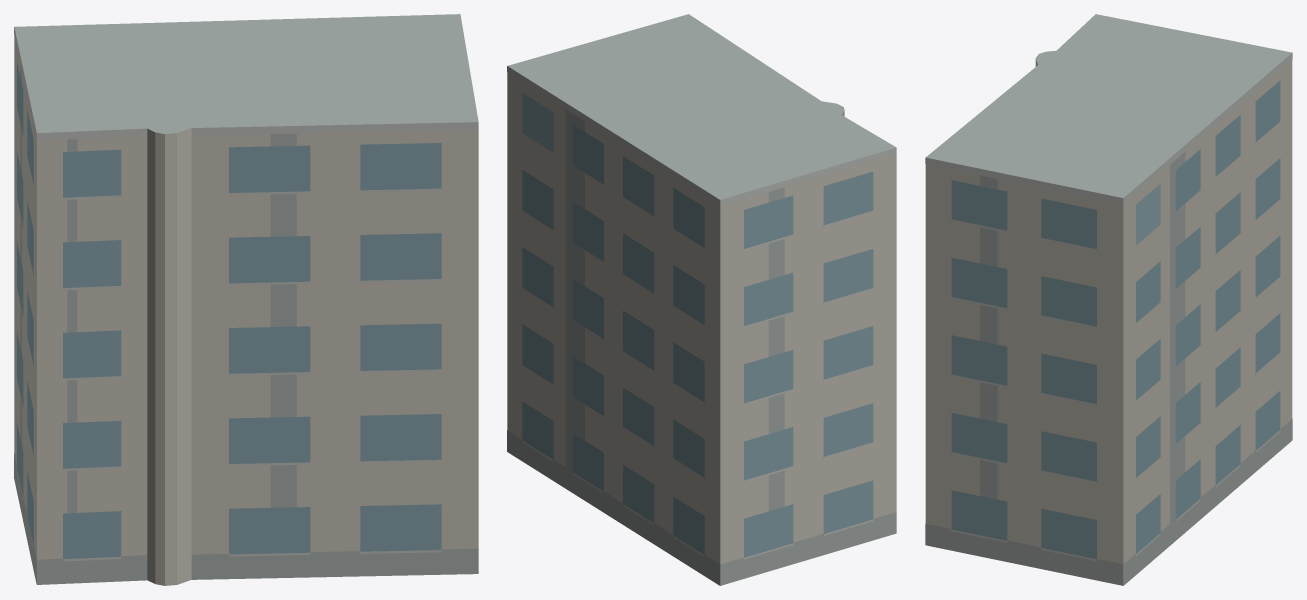
The model's file is survey-upis-32912690.glb.
3 views of the same model, side by side, from view 1: azimuth 30°, elevation 25°; view 2: azimuth 150°, elevation 25°; view 3: azimuth 270°, elevation 25° (orthographic). The views are drawn at different scales.
Visible parts, largest first — view 1: survey-upis-32912690.tmp; view 2: survey-upis-32912690.tmp; view 3: survey-upis-32912690.tmp.
Part boxes in pixels (x1,y1,x2,y2): survey-upis-32912690.tmp: (14, 14, 478, 585); survey-upis-32912690.tmp: (507, 14, 896, 585); survey-upis-32912690.tmp: (925, 14, 1292, 585).
Size of the model in its own units: 14.63 by 14.35 by 12.32.
